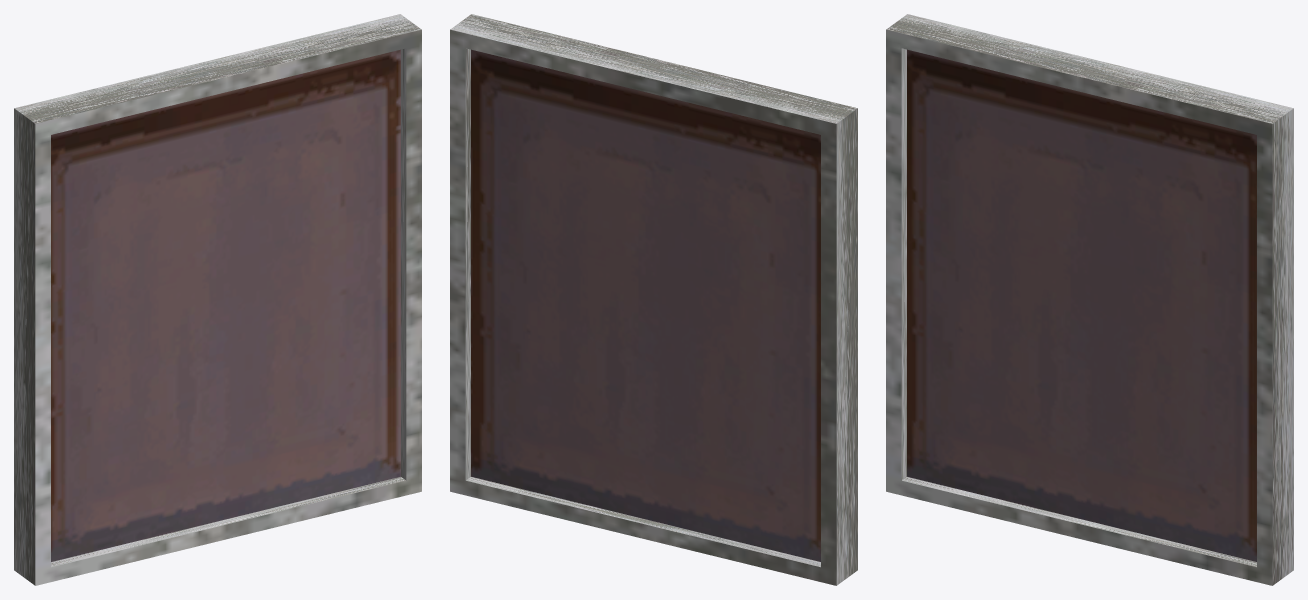
File: Door_Dog_Flap.fbx
The picture shows the model from 3 angles, left to right: view 1: azimuth 30°, elevation 25°; view 2: azimuth 150°, elevation 25°; view 3: azimuth 330°, elevation 25°; orthographic projection.
Parts seen in each view (by area): view 1: DogFlap; view 2: DogFlap; view 3: DogFlap.
Boxes of the visible parts, x1,y1,x2,y2 form: DogFlap: (14,14,421,585); DogFlap: (450,14,857,585); DogFlap: (886,14,1293,585).
Size of the model in its own units: 35.58 by 40.66 by 3.41.
